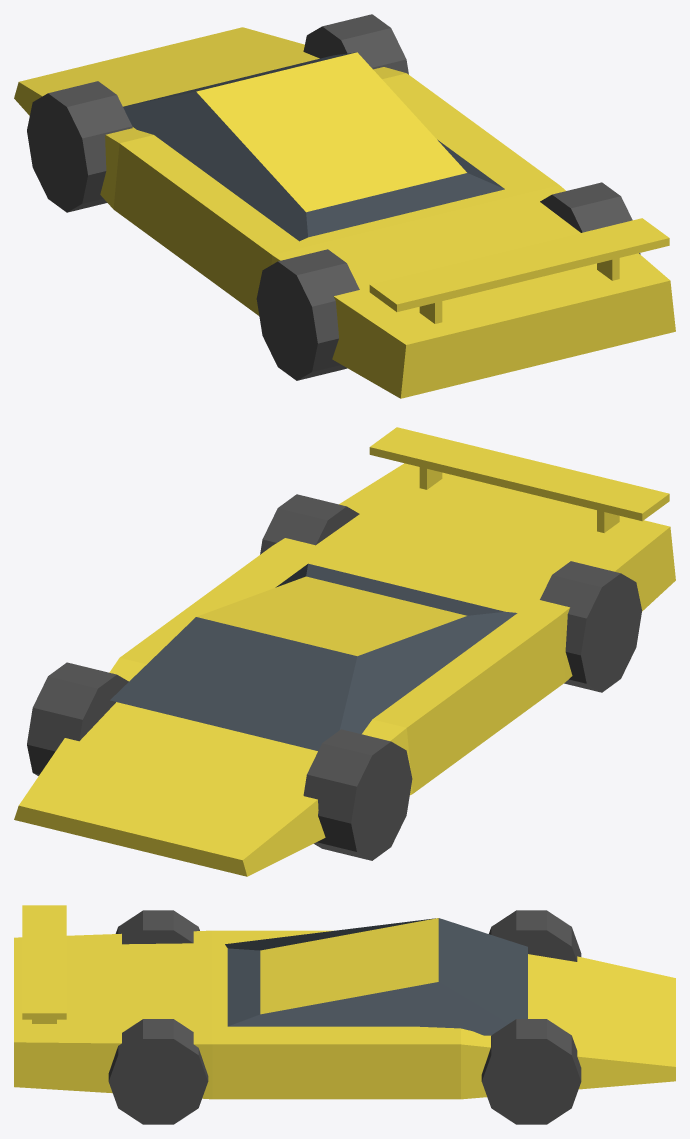
Rendered from aventador.glb.
3 views of the same model, one above another, from view 1: azimuth 30°, elevation 25°; view 2: azimuth 150°, elevation 25°; view 3: azimuth 270°, elevation 25° (orthographic). The views are drawn at different scales.
Parts seen in each view (by area): view 1: aventador_body, aventador_Wheel_RL, aventador_Wheel_FL, aventador_Wheel_FR, aventador_Wheel_RR; view 2: aventador_body, aventador_Wheel_FL, aventador_Wheel_RL, aventador_Wheel_FR, aventador_Wheel_RR; view 3: aventador_body, aventador_Wheel_FR, aventador_Wheel_RR, aventador_Wheel_FL, aventador_Wheel_RL.
Part boxes in pixels (x1,y1,x2,y2): aventador_body: [14, 27, 675, 398]; aventador_Wheel_RL: [256, 249, 359, 380]; aventador_Wheel_FL: [27, 81, 132, 212]; aventador_Wheel_FR: [303, 14, 408, 74]; aventador_Wheel_RR: [540, 182, 640, 254]; aventador_body: [14, 427, 675, 876]; aventador_Wheel_FL: [303, 729, 412, 860]; aventador_Wheel_RL: [540, 561, 642, 692]; aventador_Wheel_FR: [27, 662, 128, 775]; aventador_Wheel_RR: [260, 494, 359, 554]; aventador_body: [14, 905, 675, 1099]; aventador_Wheel_FR: [481, 1019, 581, 1124]; aventador_Wheel_RR: [108, 1019, 208, 1124]; aventador_Wheel_FL: [489, 910, 581, 961]; aventador_Wheel_RL: [115, 910, 199, 944].
Size of the model in its own units: 2.2 by 0.8824 by 4.79.
